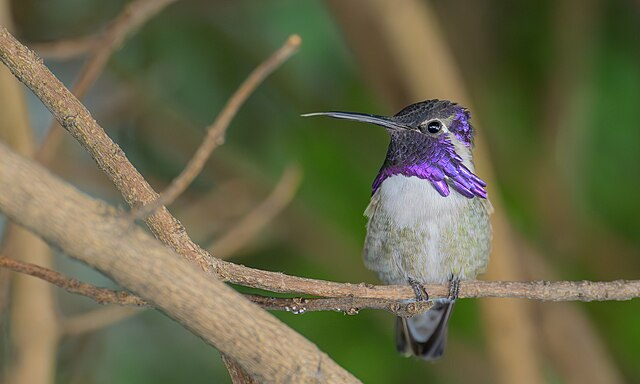calypte costae: (299, 97, 501, 360)
